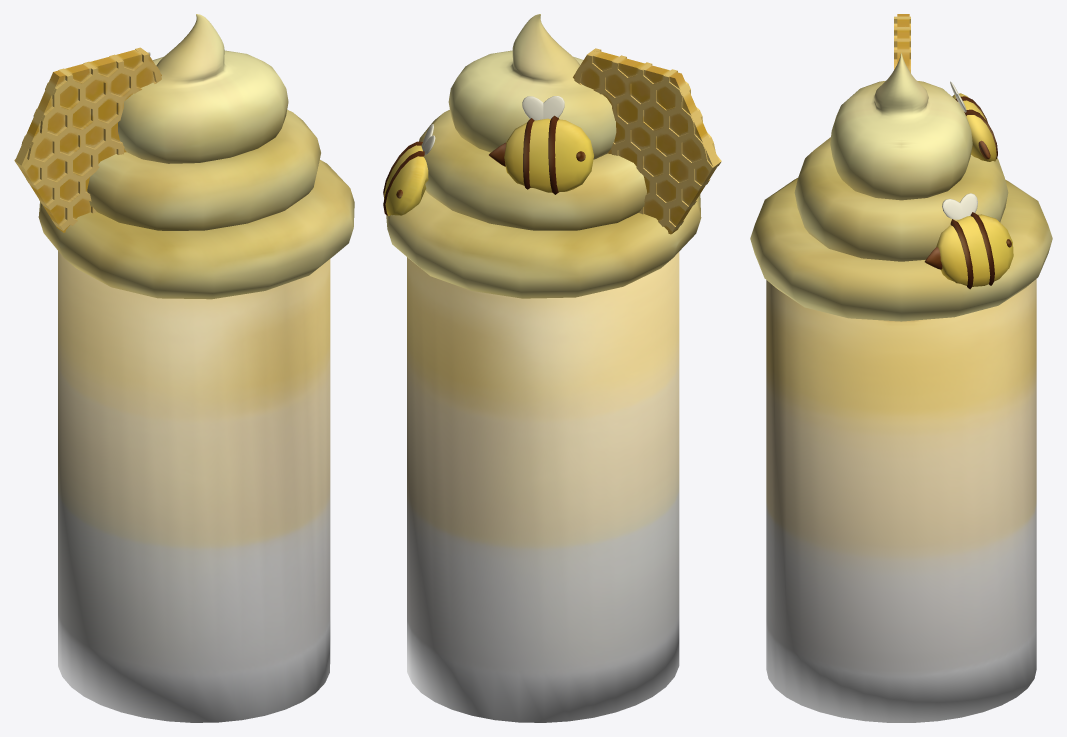
File: BeeDrink.obj
3 views of the same model, side by side, from view 1: azimuth 30°, elevation 25°; view 2: azimuth 150°, elevation 25°; view 3: azimuth 270°, elevation 25° (orthographic). The views are drawn at different scales.
Visible parts, largest first — view 1: Cube.004; view 2: Cube.004; view 3: Cube.004.
Part boxes in pixels (<box>): Cube.004: <box>14,14,354,722</box>; Cube.004: <box>383,14,721,722</box>; Cube.004: <box>750,14,1052,722</box>.
Size of the model in its own units: 2.15 by 4.27 by 1.9.
